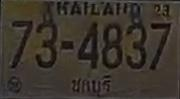3: (35, 20, 57, 68), (125, 22, 146, 68)
4: (77, 21, 98, 68)
7: (11, 19, 32, 68), (150, 22, 170, 69)
8: (101, 22, 121, 68)
CBI: (68, 75, 113, 99)
